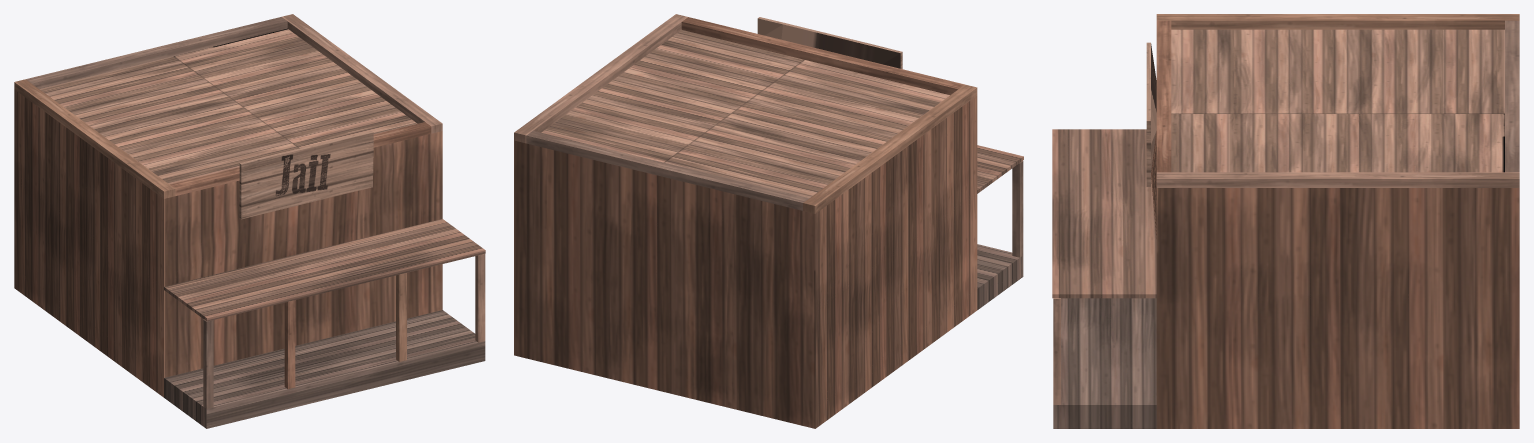
File: jail.FBX
The picture shows the model from 3 angles, left to right: view 1: azimuth 30°, elevation 25°; view 2: azimuth 150°, elevation 25°; view 3: azimuth 270°, elevation 25°; orthographic projection. The views are drawn at different scales.
Visible parts, largest first — view 1: Box001; view 2: Box001; view 3: Box001.
Boxes of the visible parts, left/top/right/bottom form: Box001: left=14, top=14, right=485, bottom=428; Box001: left=514, top=14, right=1023, bottom=428; Box001: left=1052, top=14, right=1519, bottom=428.
Bounding box in the file's own units: 792 × 594 × 949.
